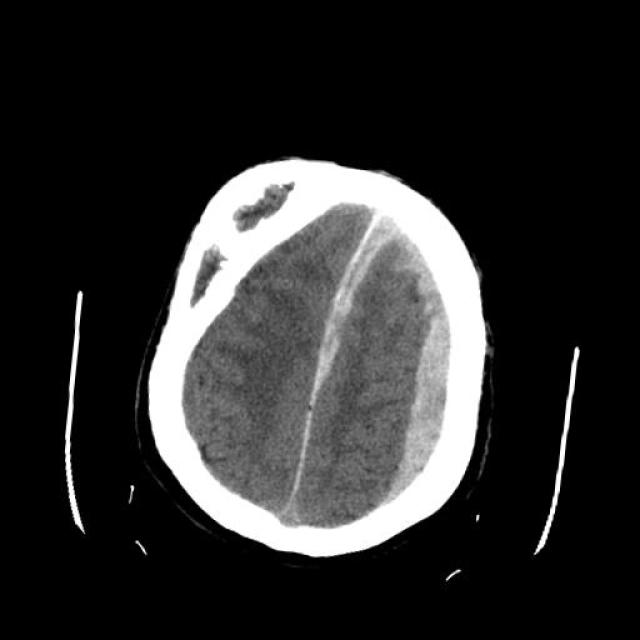Subdural: (349, 225, 507, 547), (286, 206, 396, 426)
